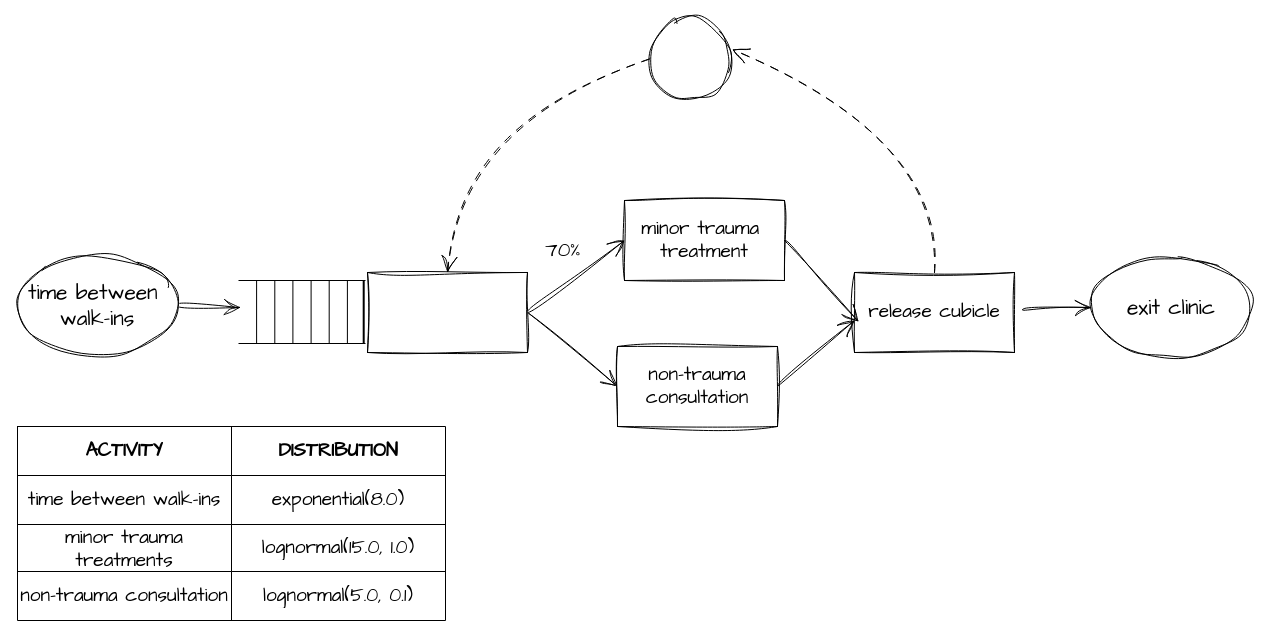
Some shapes in this 1269 by 638 pixel diagram are drawn without their labels. The centre of each missing label's shape, as x and y in pixels:
cubicle: pixel 689 58
seize cubicle: pixel 447 312
